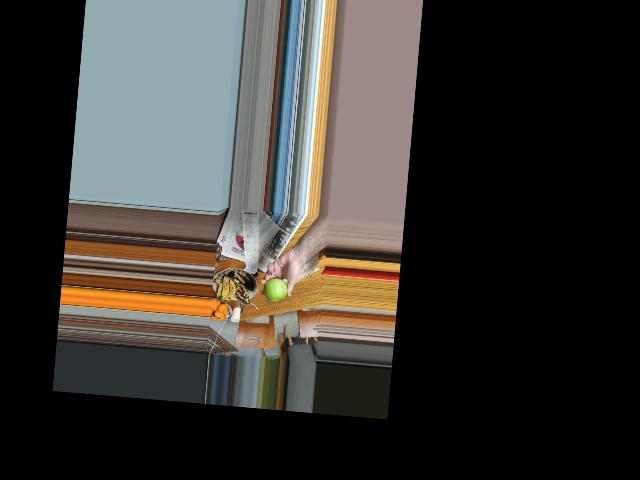apple: (262, 275, 288, 301)
